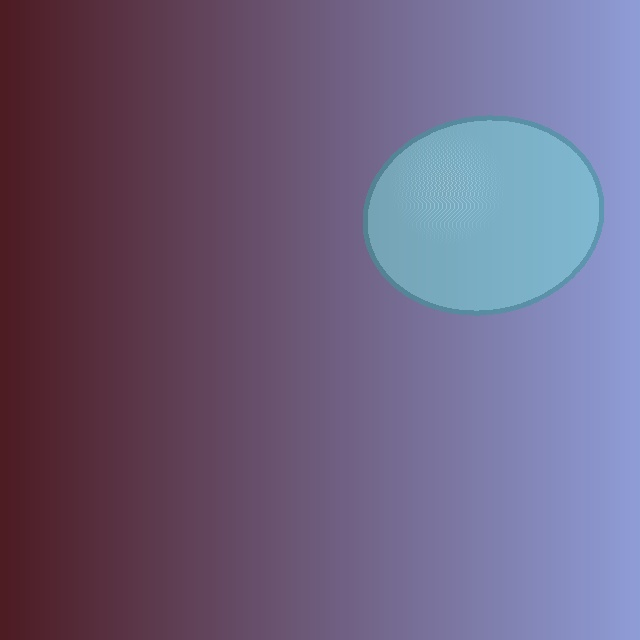lens: (365, 118, 601, 312)
